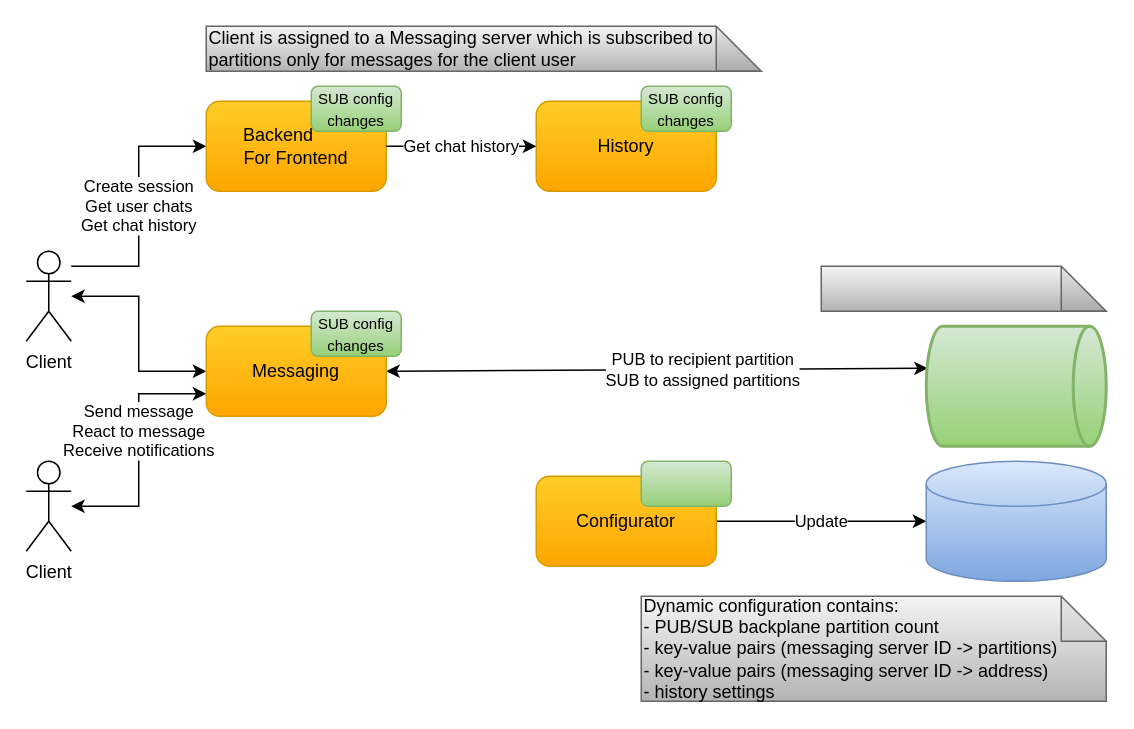
Some shapes in this 1134 by 729 pixel diagram are drawn without their labels. Each missing label, with the centre of its shape:
"Config DB" goes at pixel 1015 520.
"Messages for user ID go into a dedicated partition" goes at pixel 963 288.
"PUB config changes" goes at pixel 685 483.
"PUB/SUB backplane" goes at pixel 1015 385.
